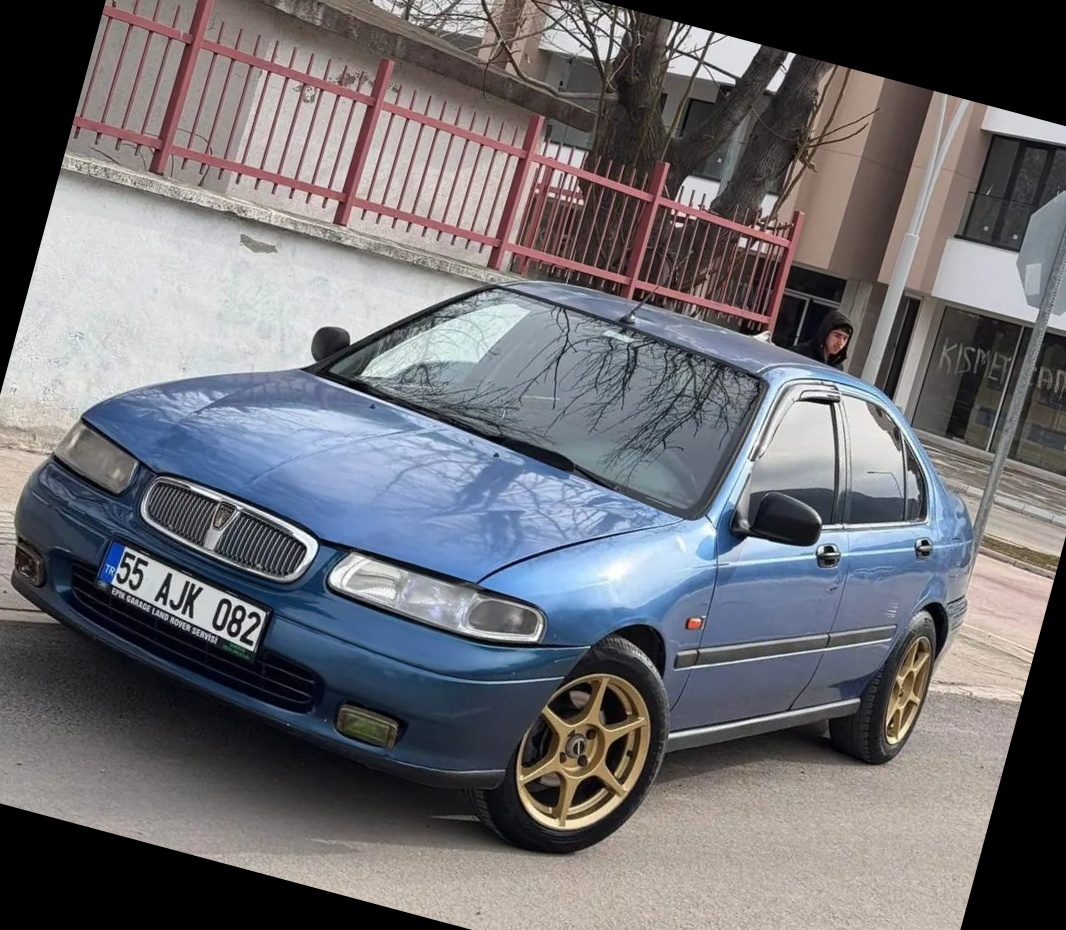plaka: (112, 540, 265, 657)
